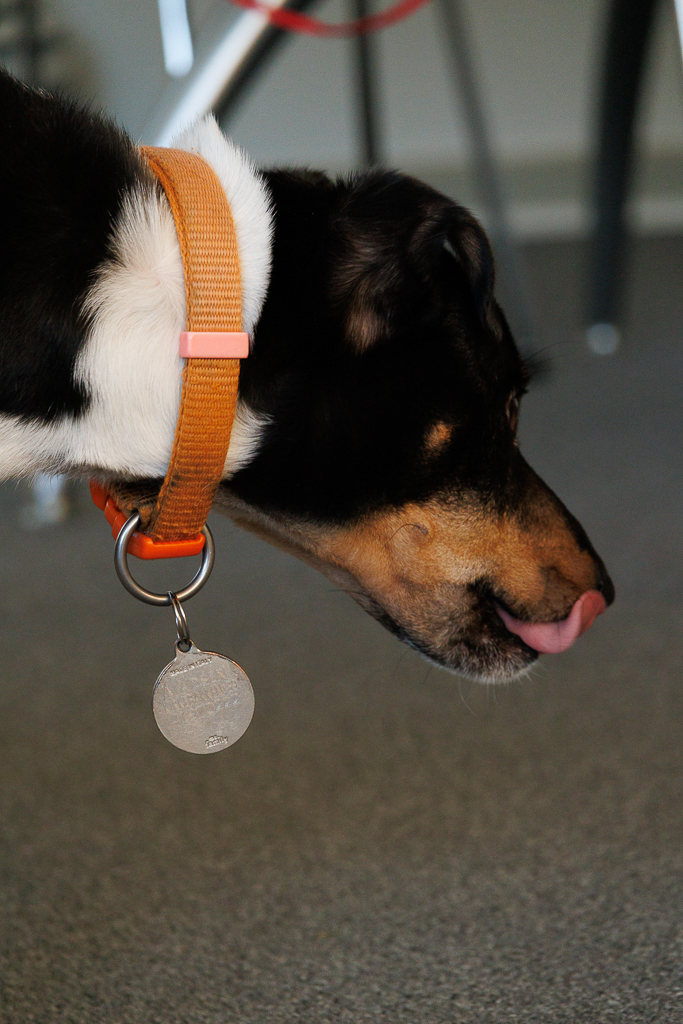Dog: (0, 49, 634, 770)
